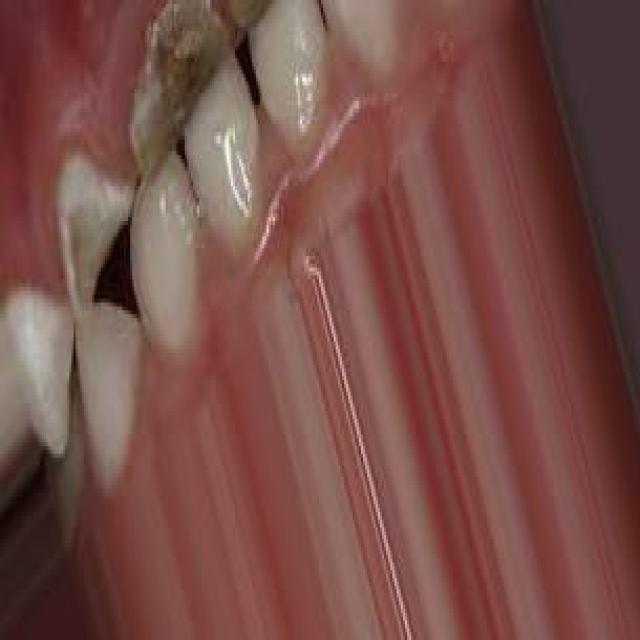caries: (122, 0, 235, 198), (47, 149, 136, 322)
